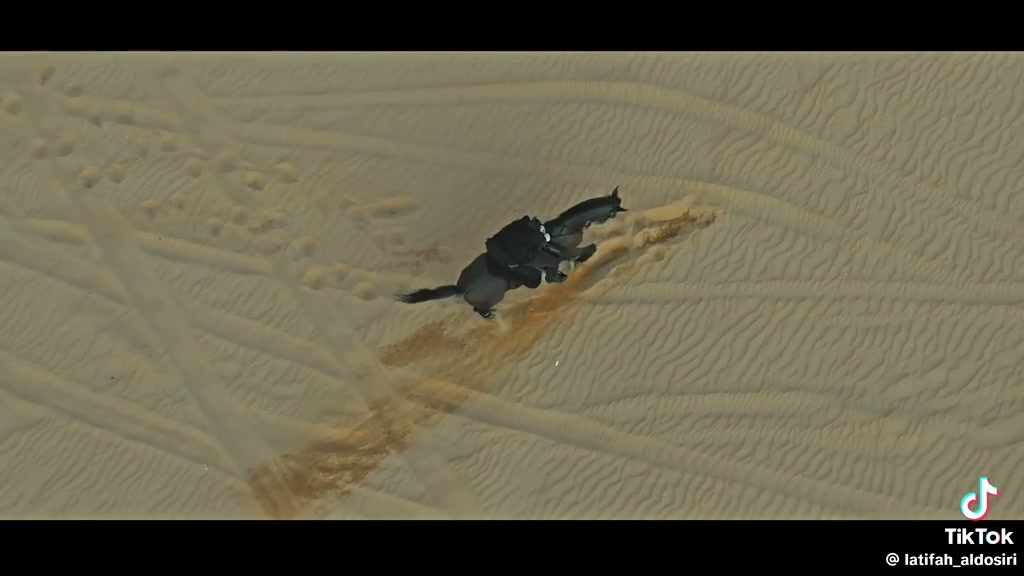animal: (535, 186, 627, 281), (396, 252, 525, 318), (544, 186, 627, 265)
human: (485, 216, 565, 288)
vehicle_track: (1, 229, 918, 523), (130, 38, 484, 523), (244, 82, 1023, 255), (14, 67, 297, 515), (253, 116, 913, 259), (0, 333, 436, 517), (579, 274, 1023, 310)
